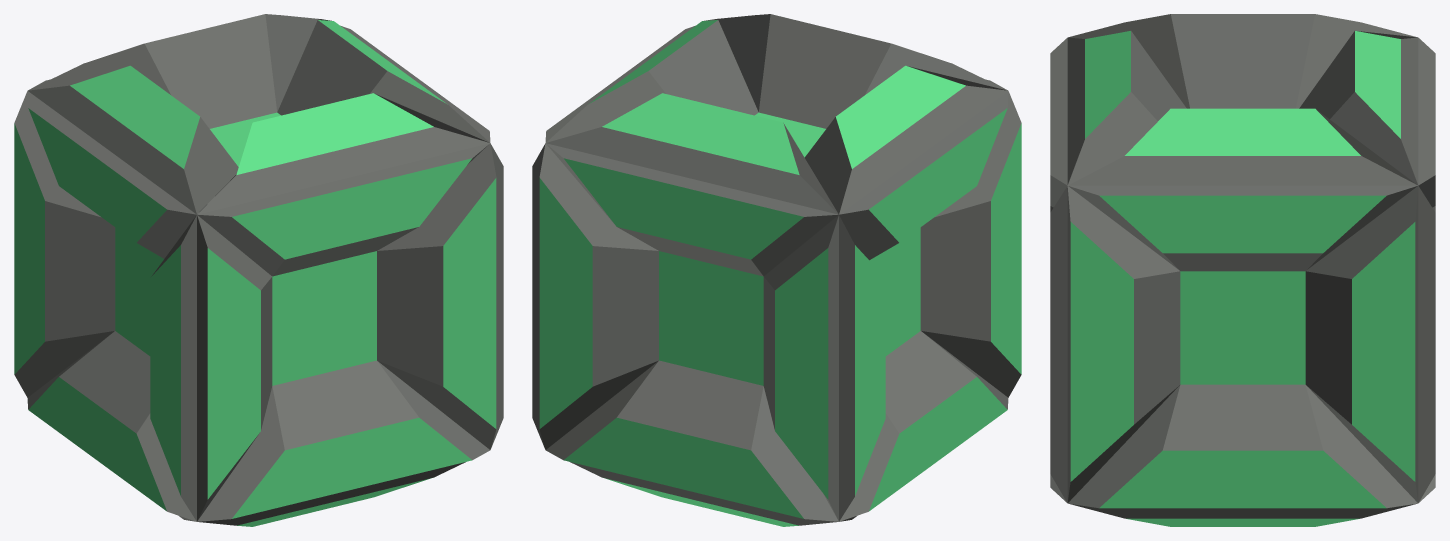
The model's file is VerdantisEssence.fbx.
3 views of the same model, side by side, from view 1: azimuth 30°, elevation 25°; view 2: azimuth 150°, elevation 25°; view 3: azimuth 270°, elevation 25° (orthographic). The views are drawn at different scales.
Visible parts, largest first — view 1: Cube; view 2: Cube; view 3: Cube.
Part boxes in pixels (bbox=[...]): Cube: bbox=[14, 14, 503, 526]; Cube: bbox=[532, 14, 1021, 526]; Cube: bbox=[1050, 14, 1435, 526].
Bounding box in the file's own units: 177 × 212 × 177.
